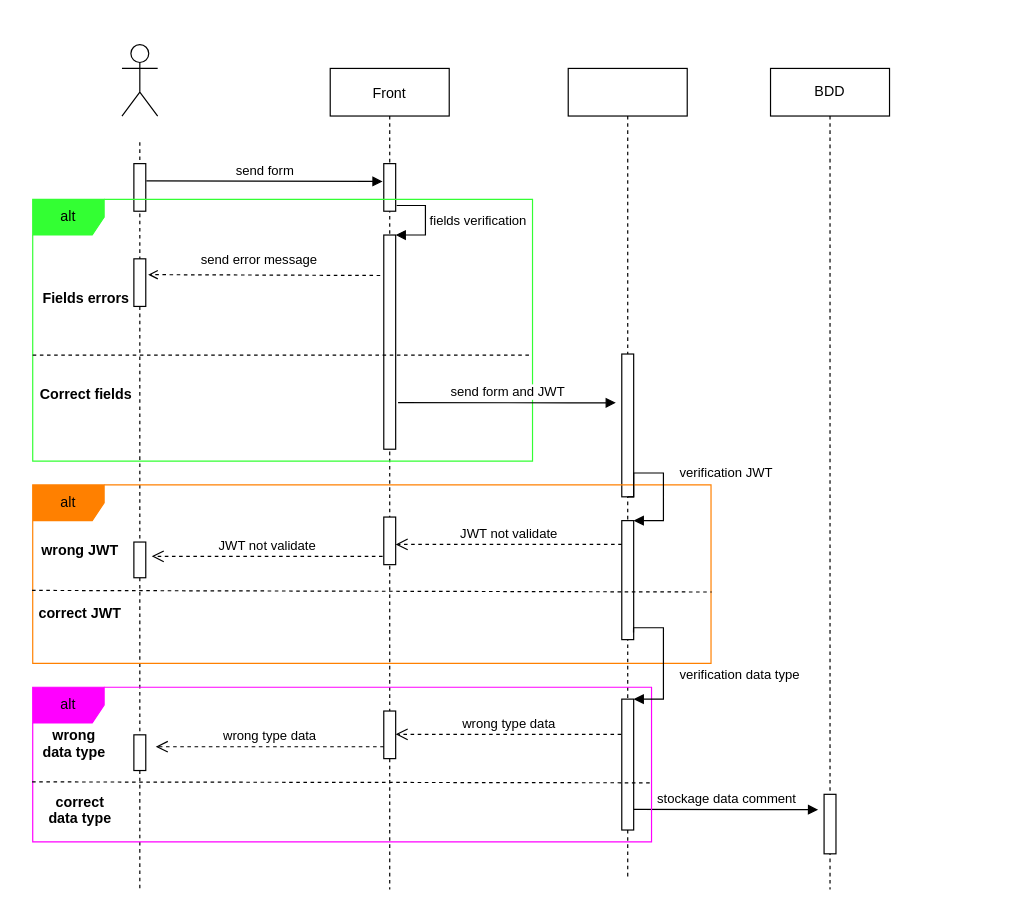
This 1016x912 diagram has some shape labels left out. The shapes that lost their labels are listed below. From the top down, each one's centre as x and y in pixels, then its label:
[139,79]: Customer
[627,472]: Back
